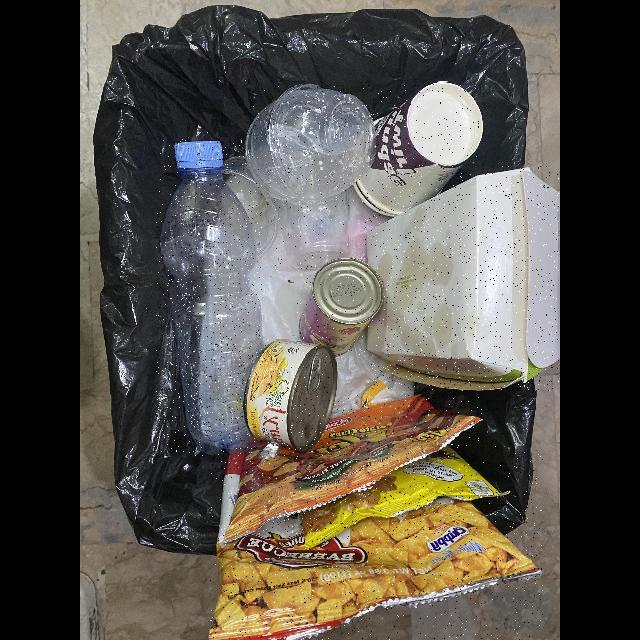metal: (243, 340, 336, 452), (298, 257, 384, 356)
paper: (366, 166, 559, 390), (354, 82, 484, 216)
plastic: (156, 139, 263, 455), (245, 86, 376, 205), (275, 190, 350, 270)
wrapper: (210, 448, 543, 640), (222, 395, 482, 543), (297, 445, 501, 548)
